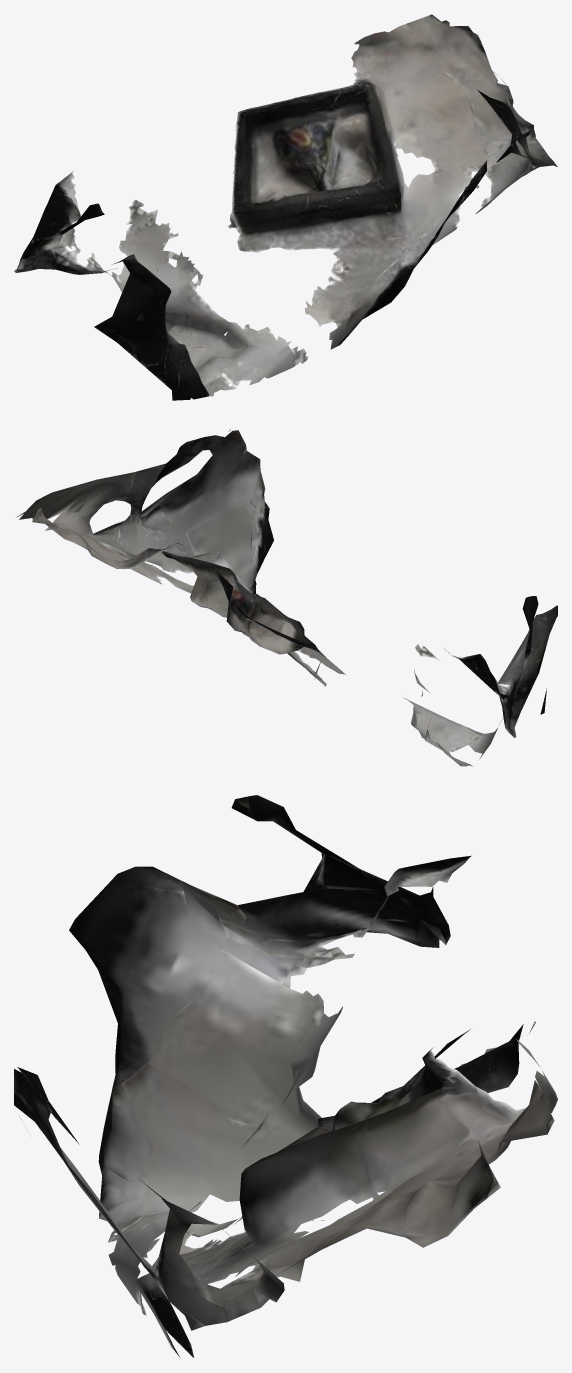
File: hall.glb
3 renders of one model, top to bottom at view 1: azimuth 30°, elevation 25°; view 2: azimuth 150°, elevation 25°; view 3: azimuth 270°, elevation 25°, orthographic. The views are drawn at different scales.
Size of the model in its own units: 0.885 by 0.3792 by 0.449.
1 material, 1 textured.
